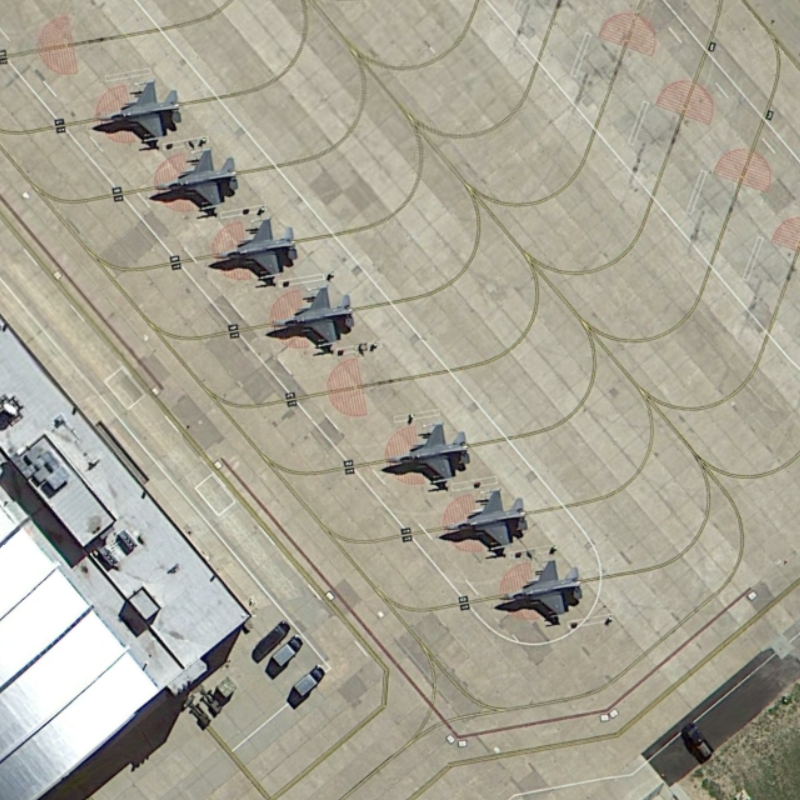A5: (380, 408, 474, 498), (199, 211, 304, 289), (492, 553, 592, 633), (147, 143, 247, 222), (262, 278, 361, 357), (437, 481, 533, 560), (93, 74, 187, 151)
